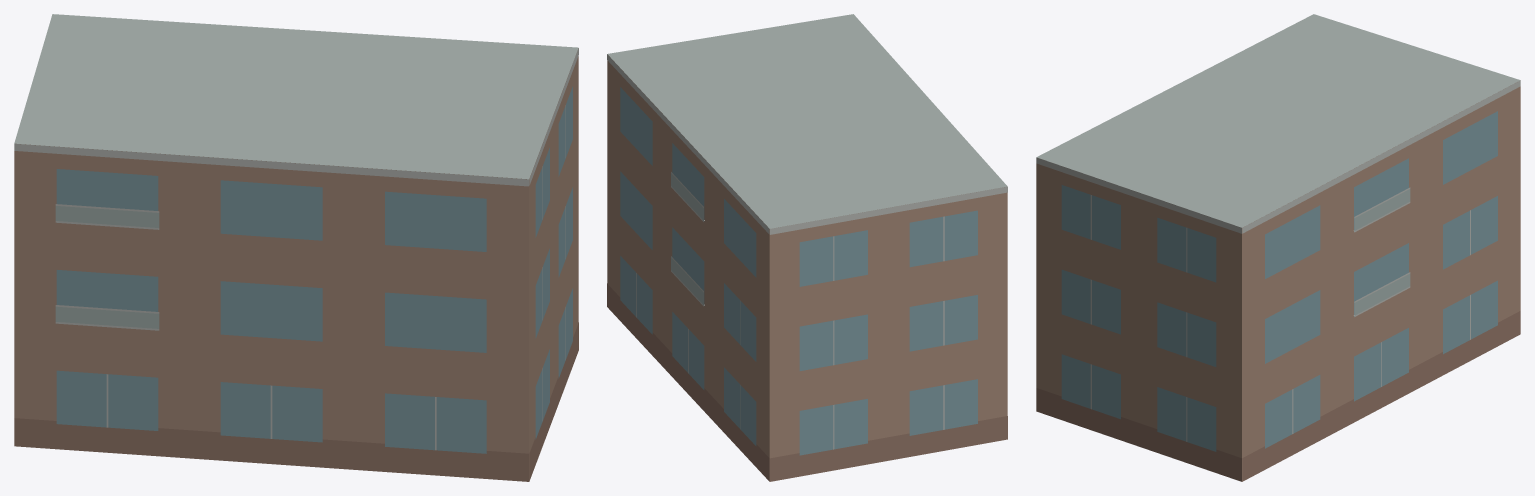
Rendered from survey-upis-32764949.glb.
The picture shows the model from 3 angles, left to right: view 1: azimuth 30°, elevation 25°; view 2: azimuth 150°, elevation 25°; view 3: azimuth 270°, elevation 25°; orthographic projection. The views are drawn at different scales.
Parts seen in each view (by area): view 1: survey-upis-32764949.tmp; view 2: survey-upis-32764949.tmp; view 3: survey-upis-32764949.tmp.
Boxes of the visible parts, bbox=[...] form: survey-upis-32764949.tmp: bbox=[14, 14, 578, 481]; survey-upis-32764949.tmp: bbox=[607, 14, 1007, 481]; survey-upis-32764949.tmp: bbox=[1036, 14, 1520, 481].
Size of the model in its own units: 18.42 by 10.2 by 17.64.
